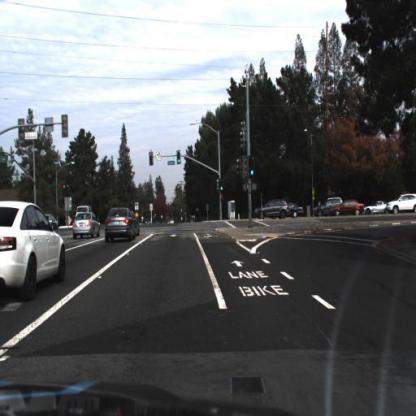car: (1, 200, 68, 303), (103, 203, 138, 246), (103, 204, 139, 245), (69, 211, 101, 244), (72, 212, 103, 241), (327, 198, 365, 221), (255, 197, 287, 222), (255, 200, 289, 222), (330, 199, 366, 217), (315, 196, 343, 217), (72, 197, 96, 221), (311, 199, 330, 222), (366, 197, 388, 215), (288, 200, 304, 220), (288, 200, 307, 216)
trafficLight-Green: (216, 176, 226, 197), (175, 147, 184, 168), (249, 156, 257, 179), (176, 156, 184, 169), (219, 185, 225, 199), (249, 167, 255, 180)
trafficLight-Red: (61, 177, 68, 195), (149, 148, 155, 164)
trafficLight-RedLeft: (148, 148, 155, 168)
